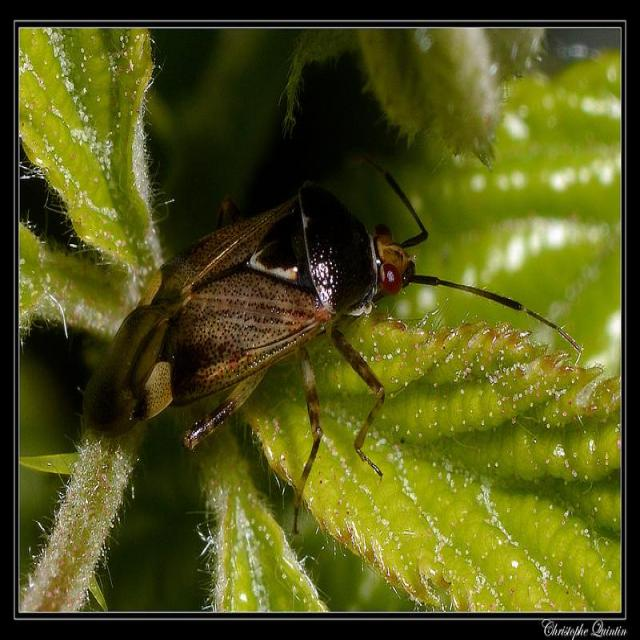Miridae-Adult-: (69, 139, 558, 510)
